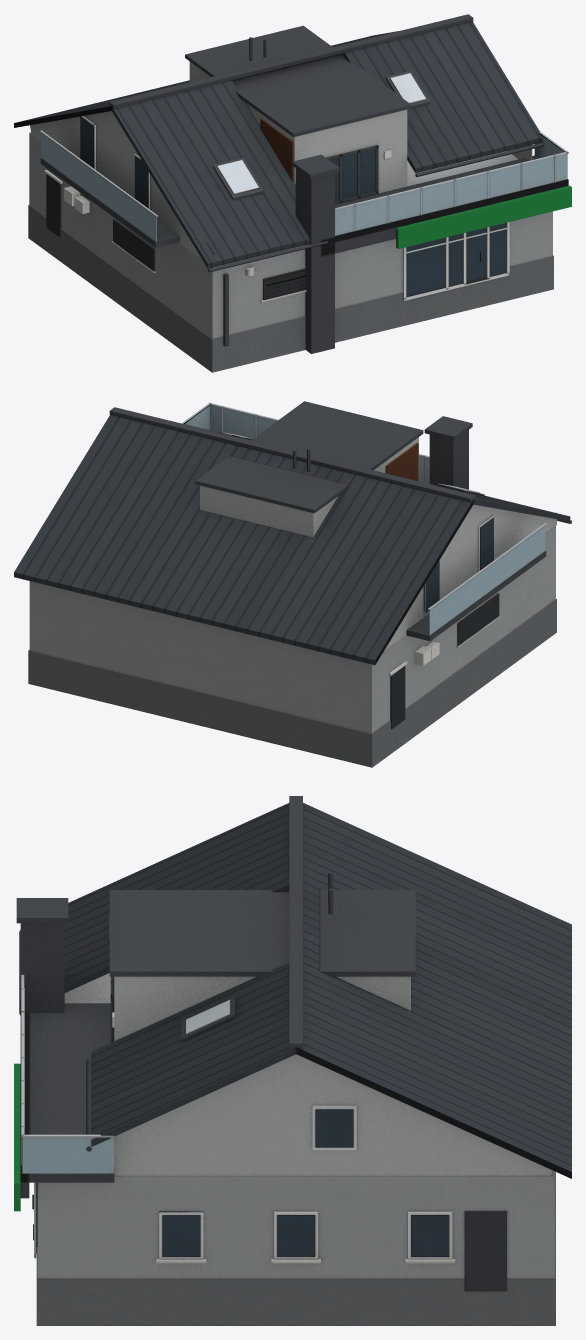
Rendered from zabka2.glb.
The picture shows the model from 3 angles, top to bottom: view 1: azimuth 30°, elevation 25°; view 2: azimuth 150°, elevation 25°; view 3: azimuth 270°, elevation 25°; orthographic projection. The views are drawn at different scales.
Visible parts, largest first — view 1: zabka2; view 2: zabka2; view 3: zabka2.
Part boxes in pixels (bbox=[...]): zabka2: bbox=[14, 14, 571, 372]; zabka2: bbox=[14, 401, 571, 767]; zabka2: bbox=[14, 796, 571, 1325].
Bounding box in the file's own units: 15.95 × 9.1 × 14.57.
Materials: 1 (1 with a texture image).
